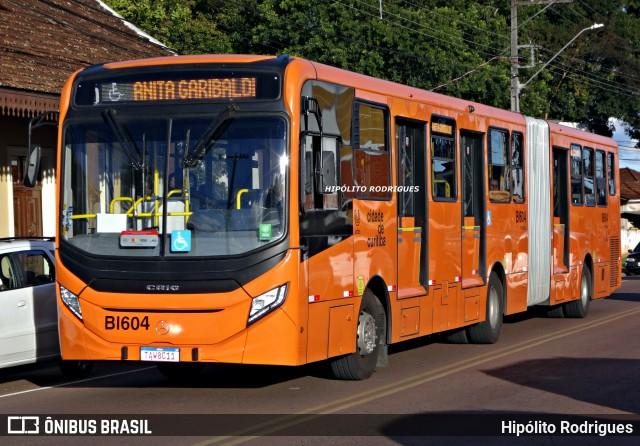ANITA GARIBALDI: (126, 72, 261, 105)
